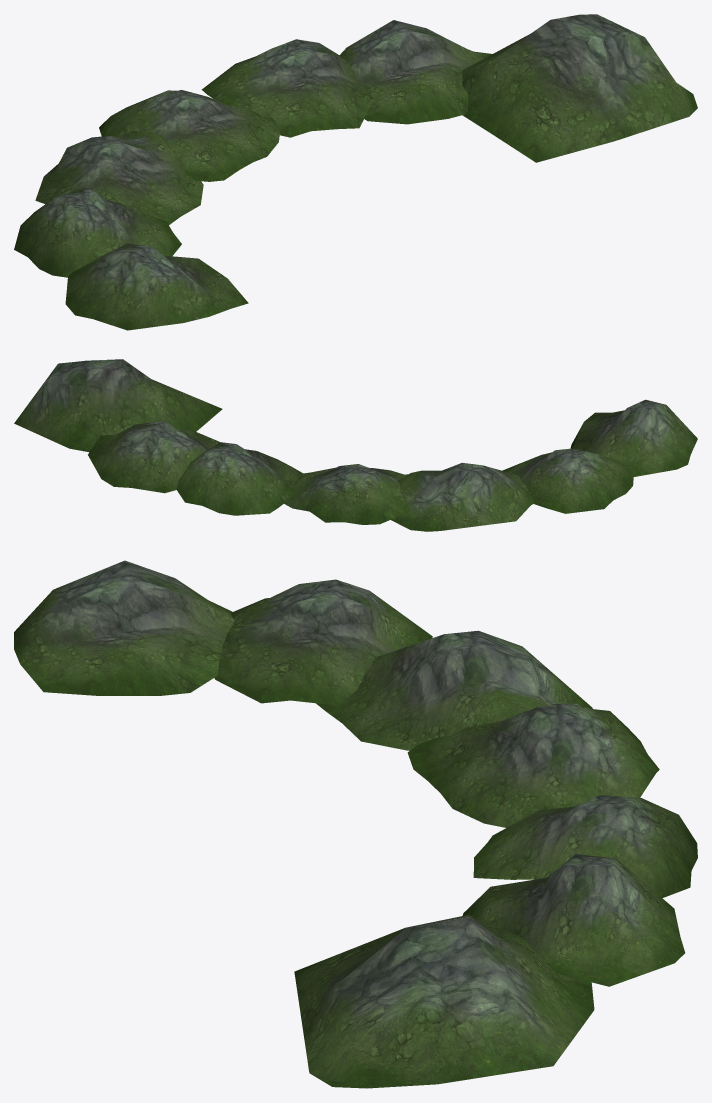
File: beijunxiudaoyuan_dibiao_02.FBX
The picture shows the model from 3 angles, top to bottom: view 1: azimuth 30°, elevation 25°; view 2: azimuth 150°, elevation 25°; view 3: azimuth 270°, elevation 25°; orthographic projection. The views are drawn at different scales.
Parts seen in each view (by area): view 1: xibuhuangye_dibiao_03; view 2: xibuhuangye_dibiao_03; view 3: xibuhuangye_dibiao_03.
Part boxes in pixels (<box>): xibuhuangye_dibiao_03: <box>14,14,697,330</box>; xibuhuangye_dibiao_03: <box>14,359,697,531</box>; xibuhuangye_dibiao_03: <box>14,560,697,1088</box>.
Size of the model in its own units: 6641 by 704 by 4082.
